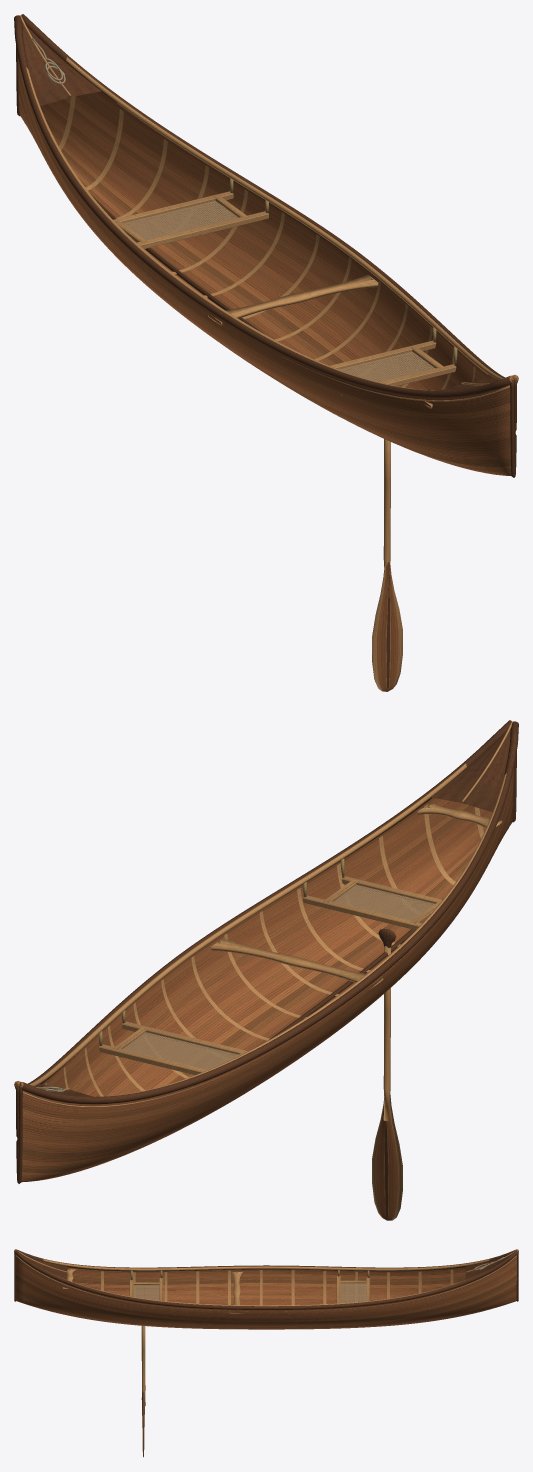
The model's file is cedar-canoe.glb.
3 views of the same model, one above another, from view 1: azimuth 30°, elevation 25°; view 2: azimuth 150°, elevation 25°; view 3: azimuth 270°, elevation 25° (orthographic). The views are drawn at different scales.
Visible parts, largest first — view 1: Hull Oiled boat timber, Paddle Oiled boat timber, Hull Seat cane; view 2: Hull Oiled boat timber, Hull Seat cane, Paddle Oiled boat timber; view 3: Hull Oiled boat timber, Hull Seat cane, Paddle Oiled boat timber.
Part boxes in pixels (<box>): Hull Oiled boat timber: <box>14,14,518,477</box>; Paddle Oiled boat timber: <box>372,439,402,691</box>; Hull Seat cane: <box>123,201,435,381</box>; Hull Oiled boat timber: <box>14,720,518,1183</box>; Hull Seat cane: <box>123,885,434,1069</box>; Paddle Oiled boat timber: <box>372,928,402,1220</box>; Hull Oiled boat timber: <box>14,1249,518,1329</box>; Hull Seat cane: <box>133,1283,366,1303</box>; Paddle Oiled boat timber: <box>141,1326,145,1457</box>.
Bounding box in the file's own units: 0.98 × 2.23 × 4.93.
Materials: 4 (1 with a texture image).
